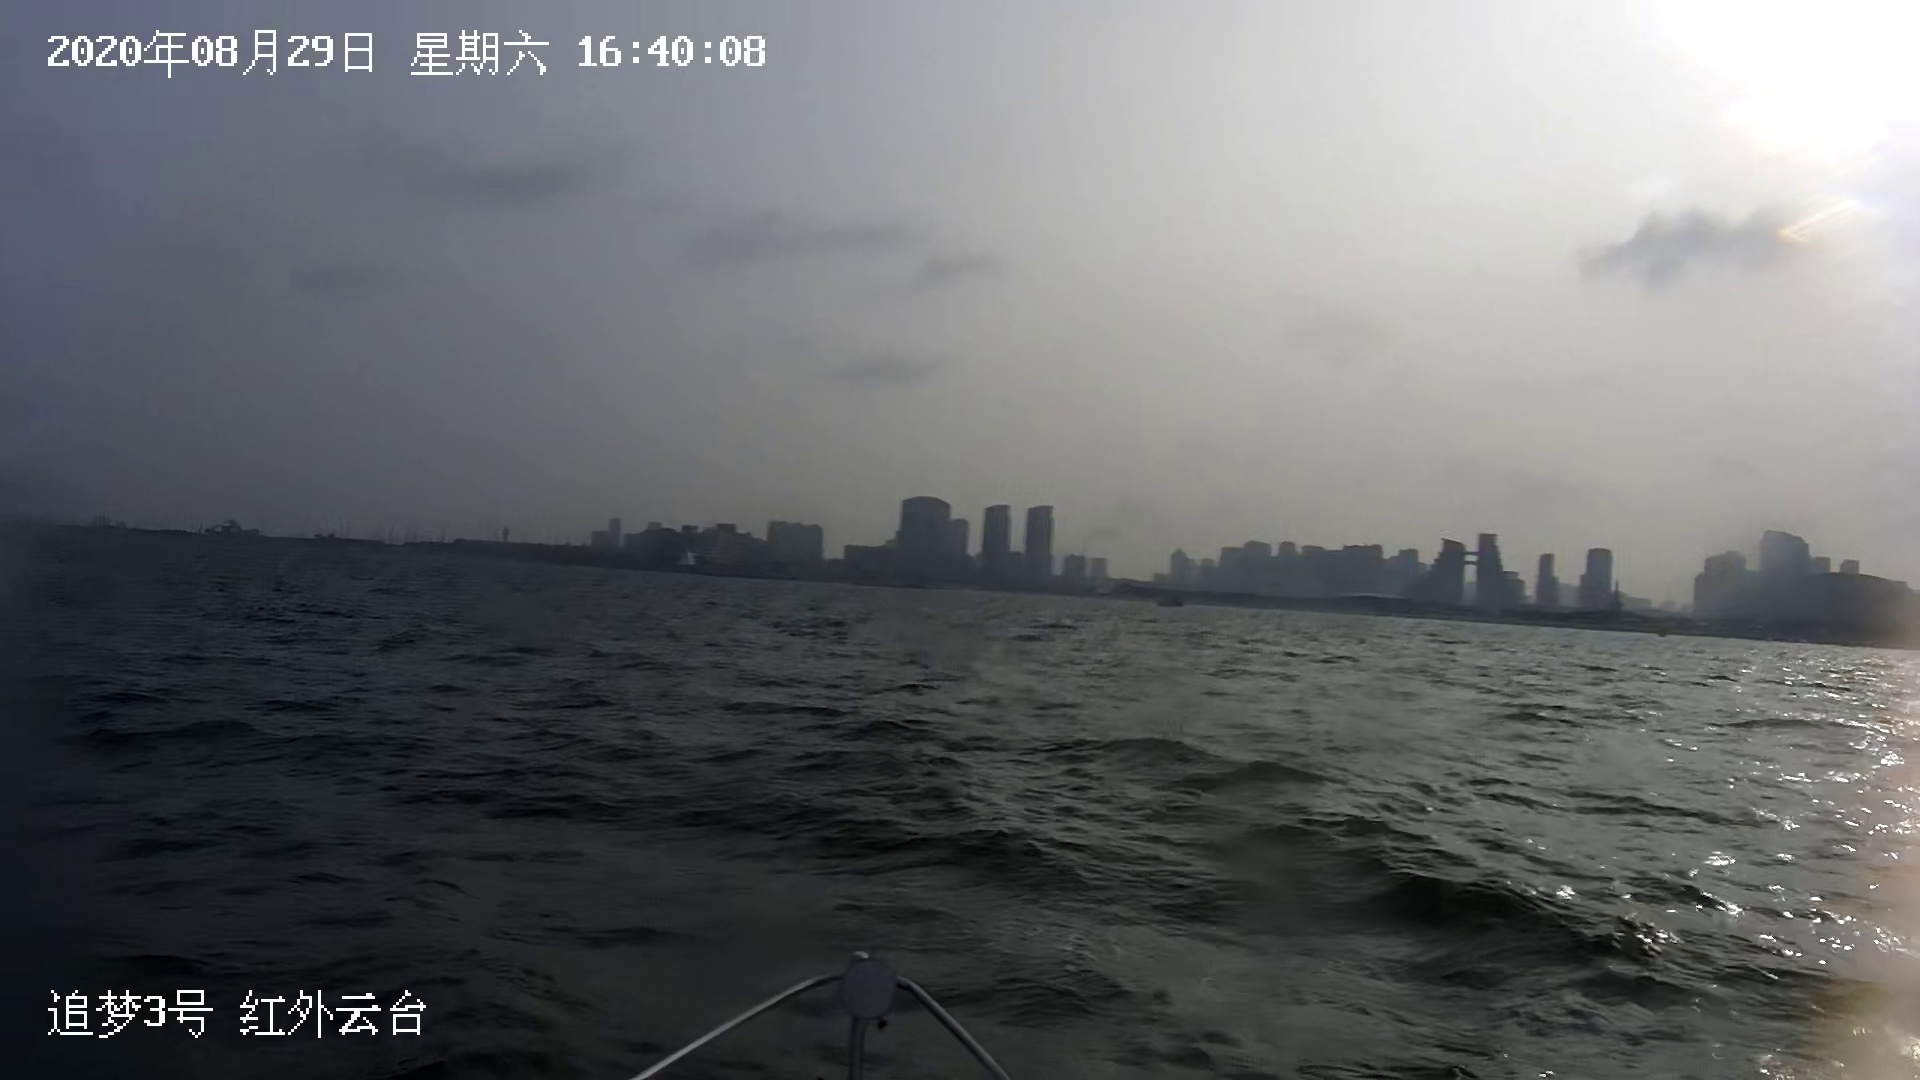coast: (71, 491, 1911, 653)
